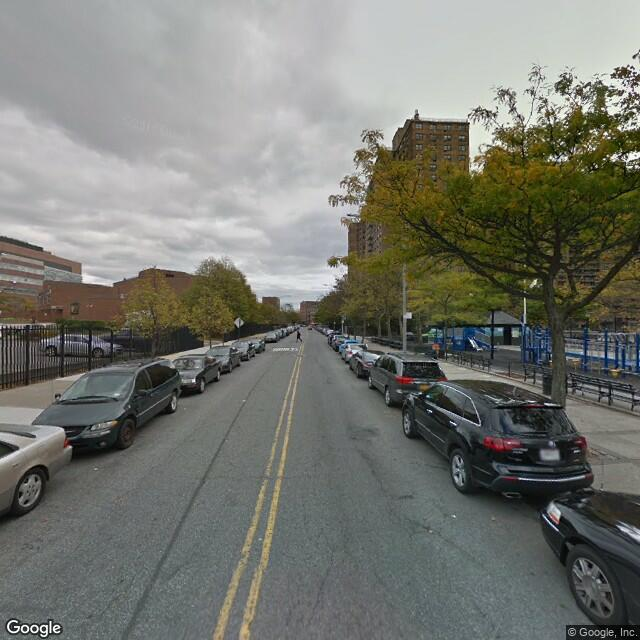litter: (426, 527, 434, 534), (490, 515, 498, 521), (451, 512, 457, 519), (92, 465, 97, 471), (242, 398, 247, 404)
